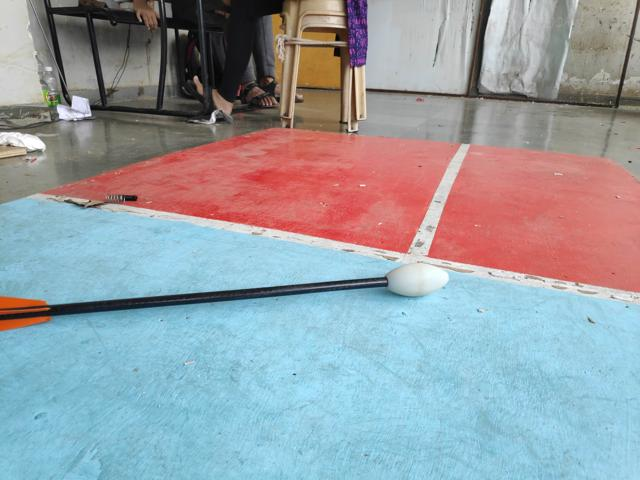Head: (382, 263, 450, 298)
Tail: (1, 294, 54, 335)
